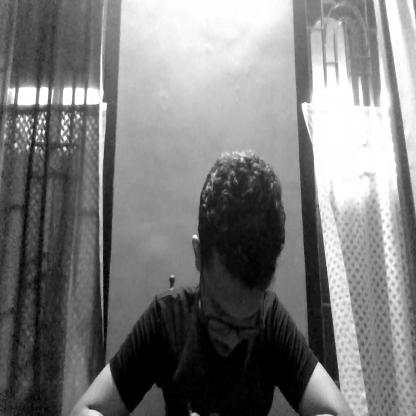Distracted: (187, 150, 282, 364)
